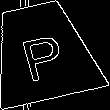P_N: (15, 23, 70, 81)
